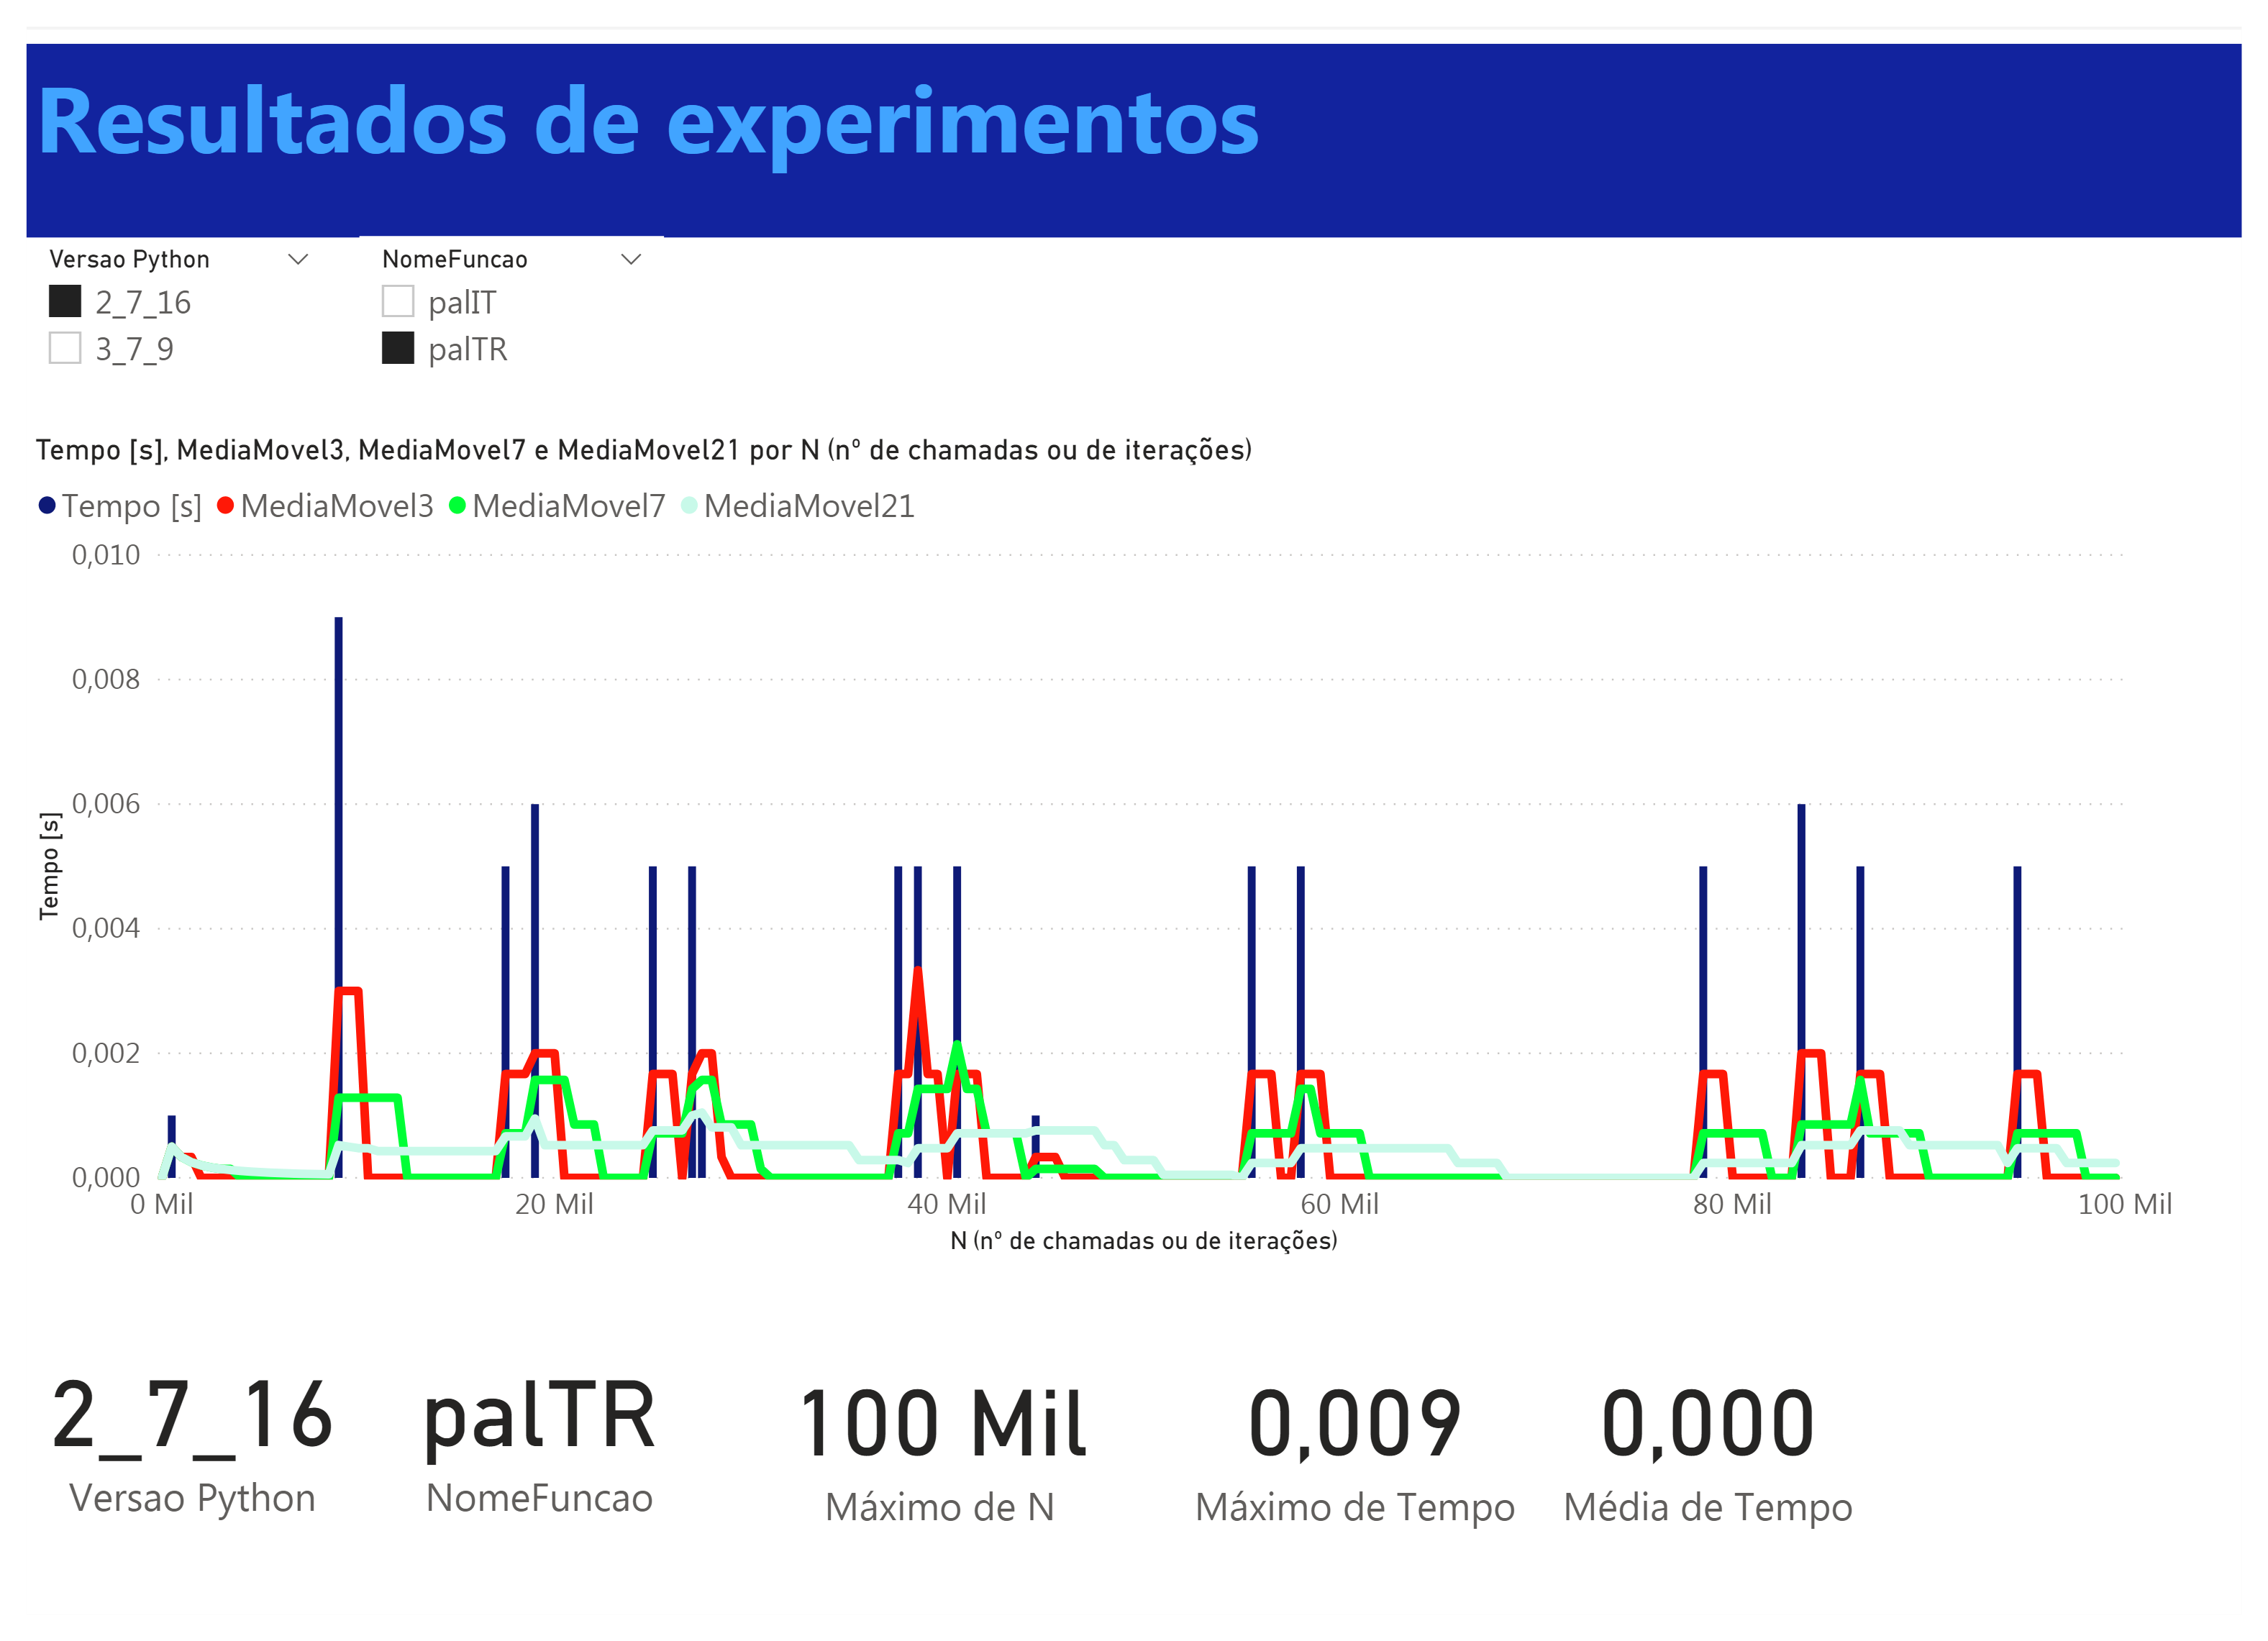

Layout of this report page (visuals, bound fields, positions):
{"tool":"powerbi","page":{"name":"Palíndromo","canvas":[1280,900],"ordinal":9},"visuals":[{"type":"card","fields":{"Values":["Max(Tabela1.Tempo)"]},"box":[648,720,240,168],"z":0},{"type":"card","fields":{"Values":["Min(Tabela1.NomeFuncao)"]},"box":[192,704,208,192],"z":1000},{"type":"card","fields":{"Values":["Max(Tabela1.N)"]},"box":[432,720,192,168],"z":2000},{"type":"card","fields":{"Values":["Avg(Tabela1.Tempo)"]},"box":[864,720,216,168],"z":3000},{"type":"slicer","fields":{"Values":["Tabela1.Versao Python"]},"box":[0,112,176,112],"z":4000},{"type":"card","fields":{"Values":["Min(Tabela1.Versao Python)"]},"box":[0,704,192,192],"z":5000},{"type":"textbox","box":[0,0,1280,112],"z":6000},{"type":"slicer","fields":{"Values":["Tabela1.NomeFuncao"]},"box":[192,112,176,112],"z":7000},{"type":"lineClusteredColumnComboChart","fields":{"Y":["Sum(Tabela1.Tempo)"],"Category":["Tabela1.N"],"Y2":["Tabela1.MediaMovel3","Tabela1.MediaMovel7","Tabela1.MediaMovel21"]},"box":[0,224,1248,480],"z":8000}]}

Visuals, with their boxes in screenshot pixels (x1, y1, x2, y2), scaled from the page's 1280x900 canvas onto the 2268x1641 screenshot:
card - Max(Tabela1.Tempo): select_region(1148, 1313, 1573, 1619)
card - Min(Tabela1.NomeFuncao): select_region(340, 1284, 709, 1634)
card - Max(Tabela1.N): select_region(765, 1313, 1106, 1619)
card - Avg(Tabela1.Tempo): select_region(1531, 1313, 1913, 1619)
slicer - Tabela1.Versao Python: select_region(0, 204, 312, 408)
card - Min(Tabela1.Versao Python): select_region(0, 1284, 340, 1634)
textbox: select_region(0, 0, 2267, 204)
slicer - Tabela1.NomeFuncao: select_region(340, 204, 652, 408)
lineClusteredColumnComboChart - Sum(Tabela1.Tempo) x Tabela1.N: select_region(0, 408, 2211, 1284)
